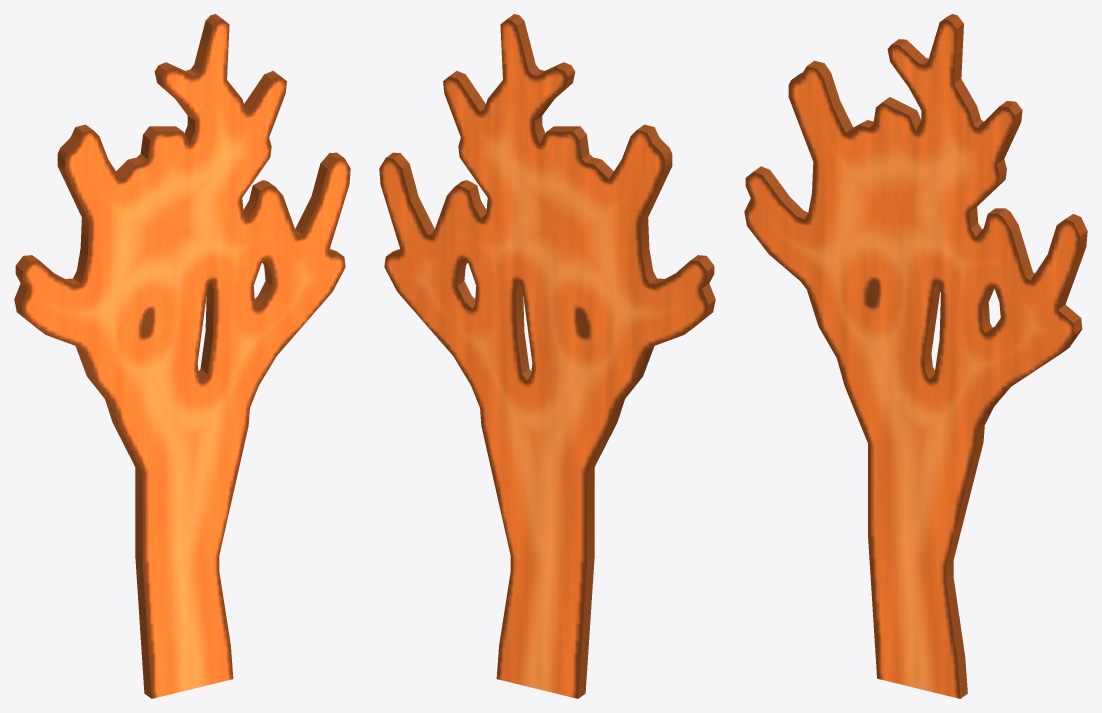
Rendered from coral-1.glb.
3 views of the same model, side by side, from view 1: azimuth 30°, elevation 25°; view 2: azimuth 150°, elevation 25°; view 3: azimuth 330°, elevation 25° (orthographic). The views are drawn at different scales.
Parts seen in each view (by area): view 1: coral-1; view 2: coral-1; view 3: coral-1.
Boxes of the visible parts, x1=… form: coral-1: x1=14, y1=14, x2=350, y2=698; coral-1: x1=379, y1=14, x2=715, y2=698; coral-1: x1=744, y1=14, x2=1087, y2=698.
Bounding box in the file's own units: 0.516 × 0.992 × 0.02.
1 material, 1 textured.
